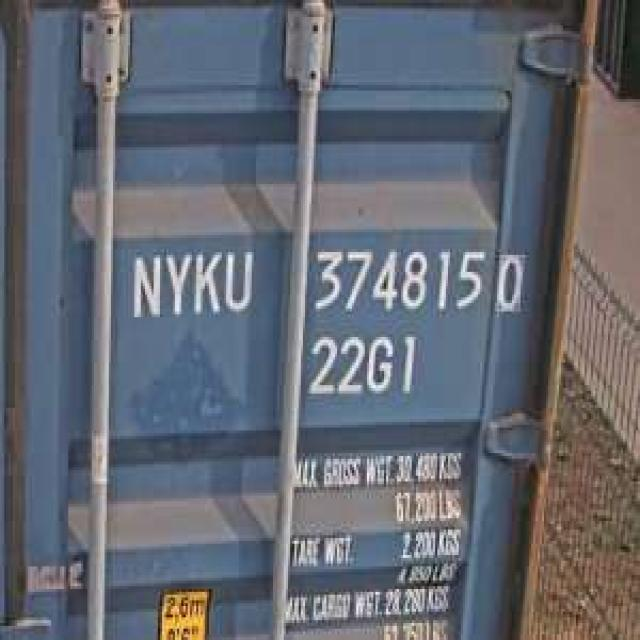dv: (491, 244, 527, 317)
owner: (124, 240, 258, 326)
serial: (305, 241, 486, 320)
size: (305, 328, 420, 405)
